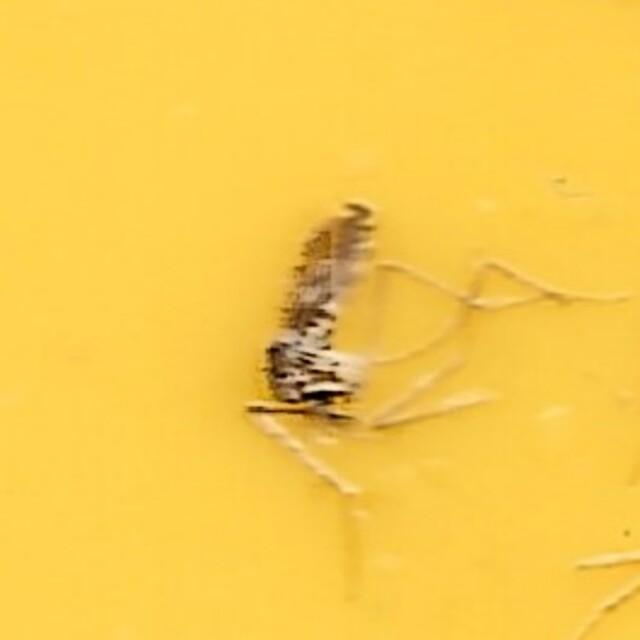Nematocera: (242, 195, 398, 445)
